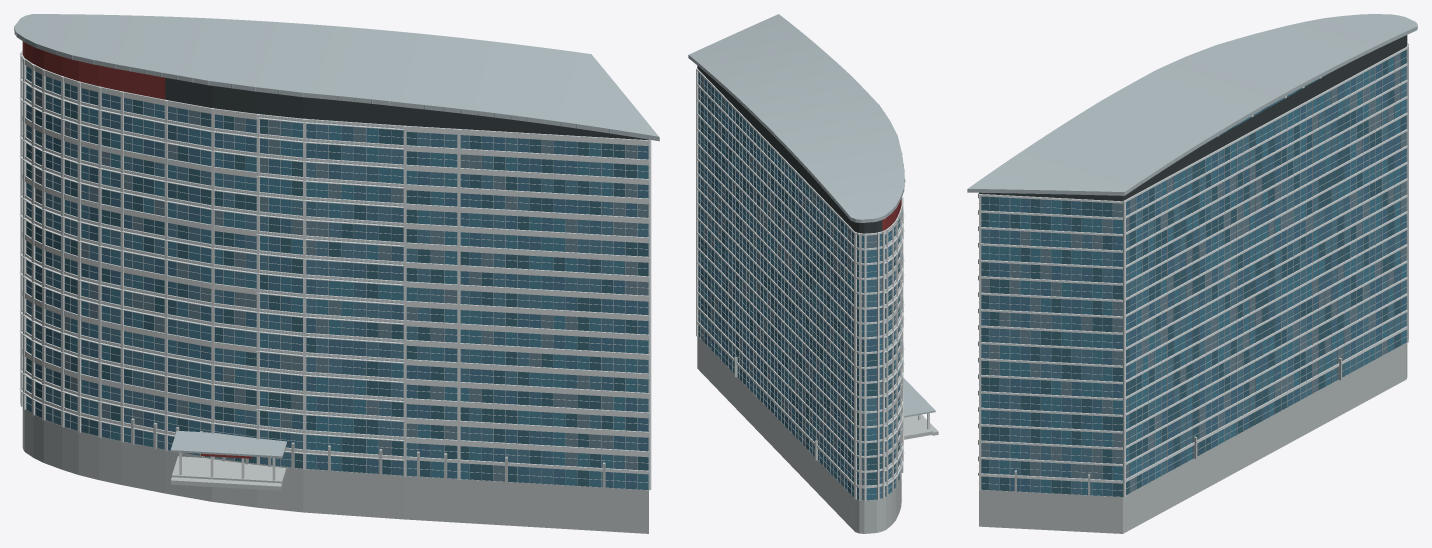
Rendered from menara_razak_lod0.glb.
3 views of the same model, side by side, from view 1: azimuth 30°, elevation 25°; view 2: azimuth 150°, elevation 25°; view 3: azimuth 270°, elevation 25° (orthographic). The views are drawn at different scales.
Visible parts, largest first — view 1: WhiteSpandrel, RoofCladding, Glass_1, Glass_0, Glass_3, Glass_2, Concrete, Aluminum, GlassNight, ShadeFins, Reveal, Burgundy; view 2: RoofCladding, WhiteSpandrel, Aluminum, Glass_2, Glass_3, Glass_1, Glass_0, Concrete, GlassNight, Reveal, ShadeFins; view 3: RoofCladding, WhiteSpandrel, Aluminum, Glass_3, Glass_1, Glass_0, Glass_2, Concrete, GlassNight, Reveal.
Boxes of the visible parts, <box> form: WhiteSpandrel: <box>20,50,651,490</box>; RoofCladding: <box>14,14,658,458</box>; Glass_1: <box>22,54,648,489</box>; Glass_0: <box>26,66,648,489</box>; Glass_3: <box>26,83,648,486</box>; Glass_2: <box>26,76,648,484</box>; Concrete: <box>22,407,648,533</box>; Aluminum: <box>14,26,659,489</box>; GlassNight: <box>35,88,648,481</box>; ShadeFins: <box>19,78,403,460</box>; Reveal: <box>22,41,648,139</box>; Burgundy: <box>23,41,252,458</box>; RoofCladding: <box>688,14,935,417</box>; WhiteSpandrel: <box>696,68,929,501</box>; Aluminum: <box>688,55,905,497</box>; Glass_2: <box>698,87,899,499</box>; Glass_3: <box>698,86,899,493</box>; Glass_1: <box>698,69,901,488</box>; Glass_0: <box>698,93,899,500</box>; Concrete: <box>697,336,938,533</box>; GlassNight: <box>698,75,895,500</box>; Reveal: <box>697,66,882,233</box>; ShadeFins: <box>883,209,904,486</box>; RoofCladding: <box>967,14,1417,195</box>; WhiteSpandrel: <box>978,43,1408,497</box>; Aluminum: <box>967,27,1417,496</box>; Glass_3: <box>981,49,1406,496</box>; Glass_1: <box>981,63,1406,496</box>; Glass_0: <box>981,56,1406,495</box>; Glass_2: <box>981,64,1406,494</box>; Concrete: <box>979,342,1407,533</box>; GlassNight: <box>981,53,1406,492</box>; Reveal: <box>979,35,1407,201</box>.
Bounding box in the file's own units: 61.46 × 59.7 × 68.11.
